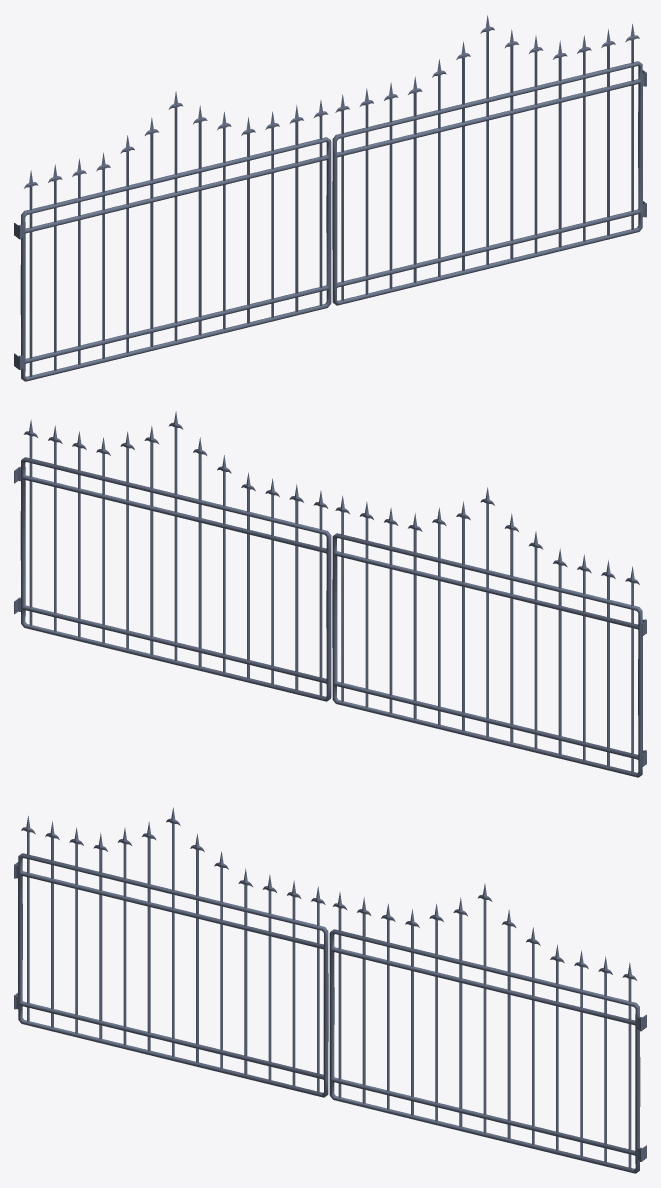
The model's file is IronGate.fbx.
The picture shows the model from 3 angles, top to bottom: view 1: azimuth 30°, elevation 25°; view 2: azimuth 150°, elevation 25°; view 3: azimuth 330°, elevation 25°; orthographic projection.
Parts seen in each view (by area): view 1: Gate.001; view 2: Gate.001; view 3: Gate.001.
Part boxes in pixels (<box>): Gate.001: <box>14,15,646,381</box>; Gate.001: <box>14,411,646,777</box>; Gate.001: <box>14,807,646,1173</box>.
Bounding box in the file's own units: 1127 × 436 × 16.65.
